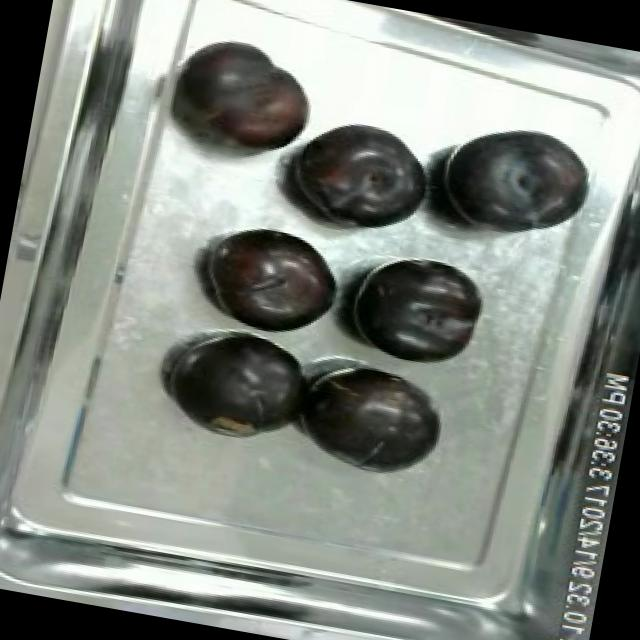Fruit: (422, 104, 604, 257), (154, 22, 332, 174), (275, 104, 442, 244), (188, 209, 352, 349), (337, 240, 499, 380), (291, 350, 454, 484), (160, 318, 319, 450)
